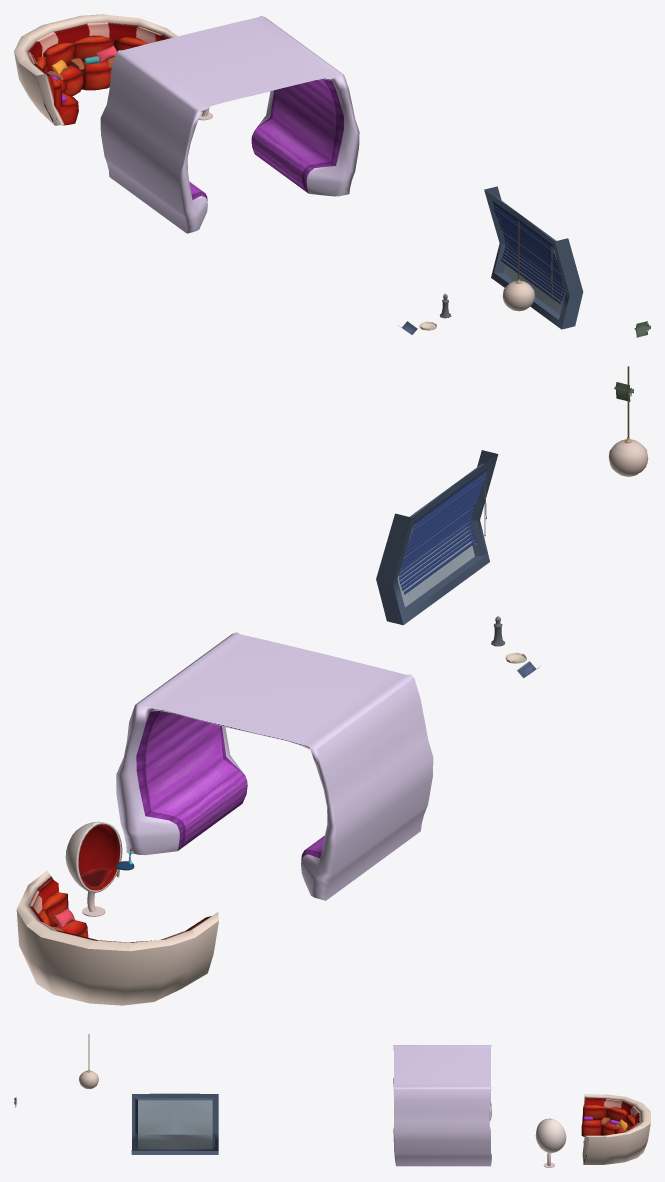
The model's file is Laura_Assets.fbx.
The picture shows the model from 3 angles, top to bottom: view 1: azimuth 30°, elevation 25°; view 2: azimuth 150°, elevation 25°; view 3: azimuth 270°, elevation 25°; orthographic projection. The views are drawn at different scales.
Visible parts, largest first — view 1: L1_S1_archwaychair, L1_S1_Lounge1, polySurface18, polySurface52; view 2: L1_S1_archwaychair, L1_S1_Lounge1, polySurface18, L1_S2_EggChair, polySurface52; view 3: L1_S1_archwaychair, polySurface18, L1_S1_Lounge1, L1_S2_EggChair, polySurface52.
Boxes of the visible parts, bbox=[...] form: L1_S1_archwaychair: bbox=[100, 15, 359, 233]; L1_S1_Lounge1: bbox=[14, 14, 177, 125]; polySurface18: bbox=[484, 186, 583, 329]; polySurface52: bbox=[502, 221, 534, 311]; L1_S1_archwaychair: bbox=[116, 632, 433, 900]; L1_S1_Lounge1: bbox=[16, 870, 218, 1005]; polySurface18: bbox=[376, 450, 498, 625]; L1_S2_EggChair: bbox=[65, 821, 122, 916]; polySurface52: bbox=[608, 366, 648, 476]; L1_S1_archwaychair: bbox=[393, 1045, 491, 1166]; polySurface18: bbox=[131, 1093, 218, 1154]; L1_S1_Lounge1: bbox=[581, 1094, 650, 1164]; L1_S2_EggChair: bbox=[535, 1118, 566, 1167]; polySurface52: bbox=[79, 1034, 98, 1088].
Size of the model in its own units: 673 by 634 by 3188.
